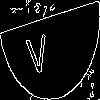V: (25, 24, 49, 76)
